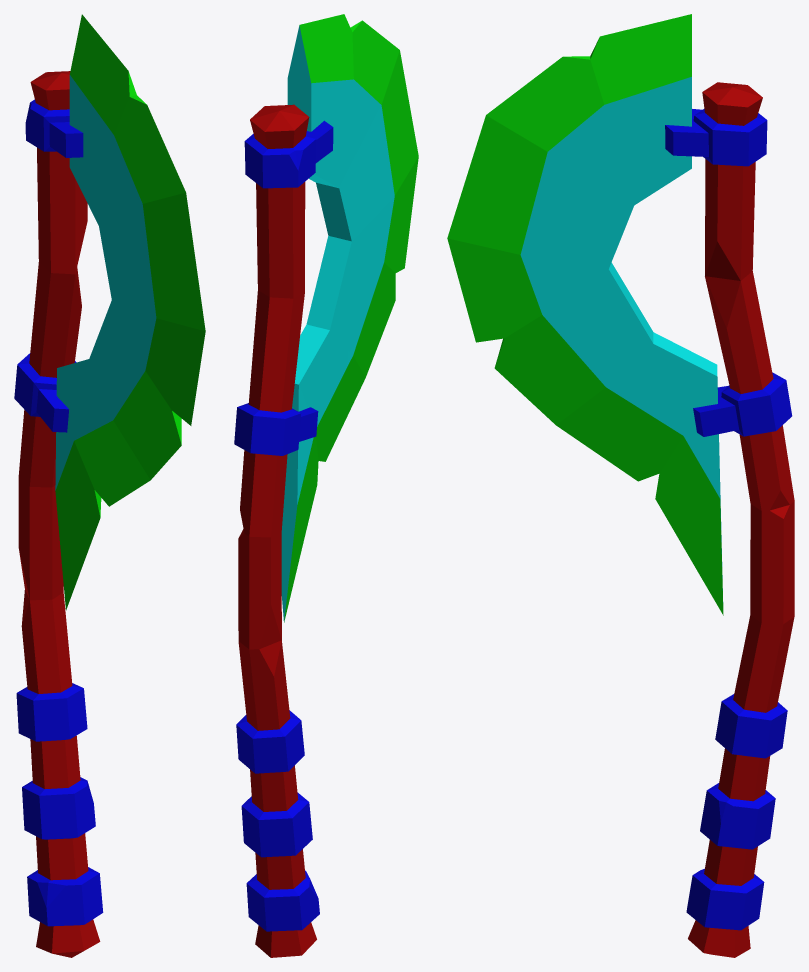
The model's file is Greataxe_Common_Standard.fbx.
3 renders of one model, left to right at view 1: azimuth 30°, elevation 25°; view 2: azimuth 150°, elevation 25°; view 3: azimuth 270°, elevation 25°, orthographic. The views are drawn at different scales.
Visible parts, largest first — view 1: SM_Wep_Axe_01; view 2: SM_Wep_Axe_01; view 3: SM_Wep_Axe_01.
Part boxes in pixels (x1,y1,x2,y2): SM_Wep_Axe_01: [14, 14, 205, 957]; SM_Wep_Axe_01: [234, 14, 418, 957]; SM_Wep_Axe_01: [447, 14, 794, 957].
Size of the model in its own units: 8.83 by 144 by 48.24.
